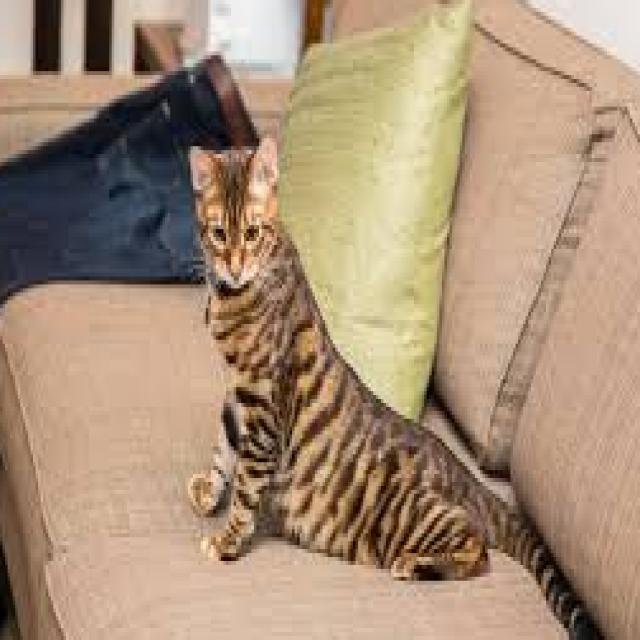Toyger: (183, 126, 597, 640)
